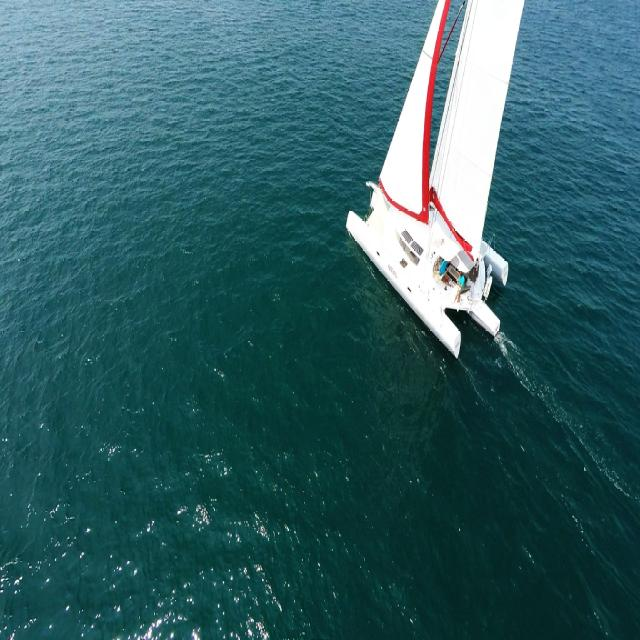Boat: (328, 4, 573, 382)
